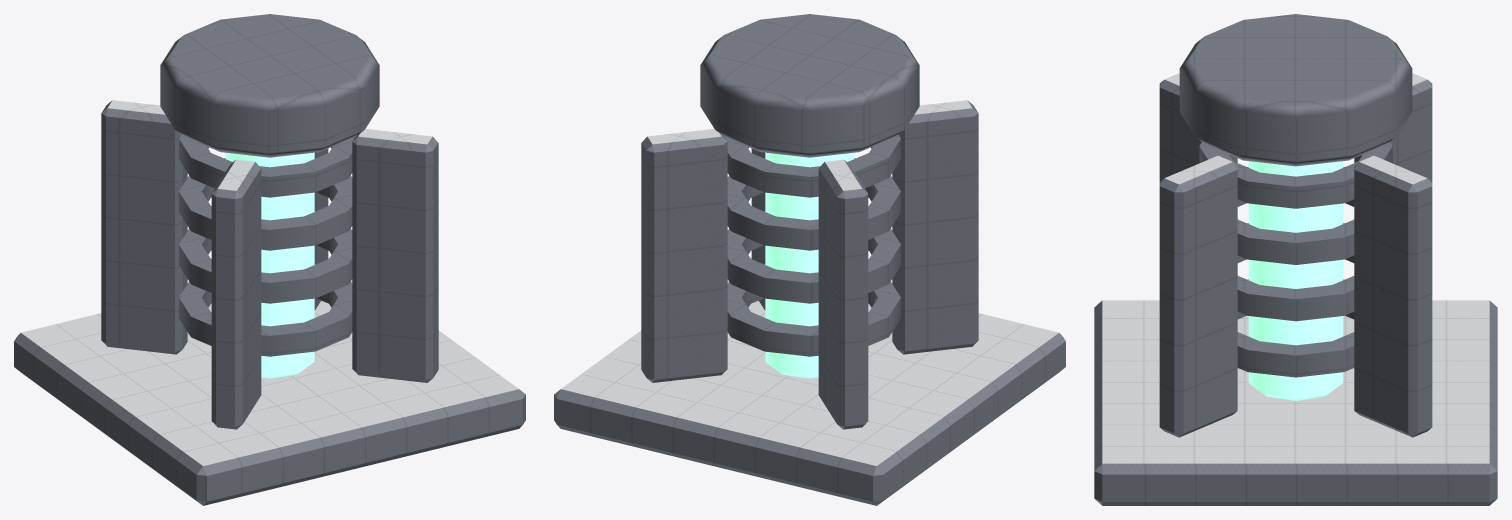
File: R4X_EnergyRegenerator_LOD1.glb
The picture shows the model from 3 angles, left to right: view 1: azimuth 30°, elevation 25°; view 2: azimuth 150°, elevation 25°; view 3: azimuth 270°, elevation 25°; orthographic projection. The views are drawn at different scales.
Visible parts, largest first — view 1: R4X_EnergyRegenerator_LOD1; view 2: R4X_EnergyRegenerator_LOD1; view 3: R4X_EnergyRegenerator_LOD1.
Boxes of the visible parts, x1=… form: R4X_EnergyRegenerator_LOD1: x1=14, y1=14, x2=525, y2=505; R4X_EnergyRegenerator_LOD1: x1=554, y1=14, x2=1065, y2=505; R4X_EnergyRegenerator_LOD1: x1=1094, y1=14, x2=1497, y2=505.
Bounding box in the file's own units: 0.52 × 0.52 × 0.52.
Materials: 3 (2 with a texture image).
